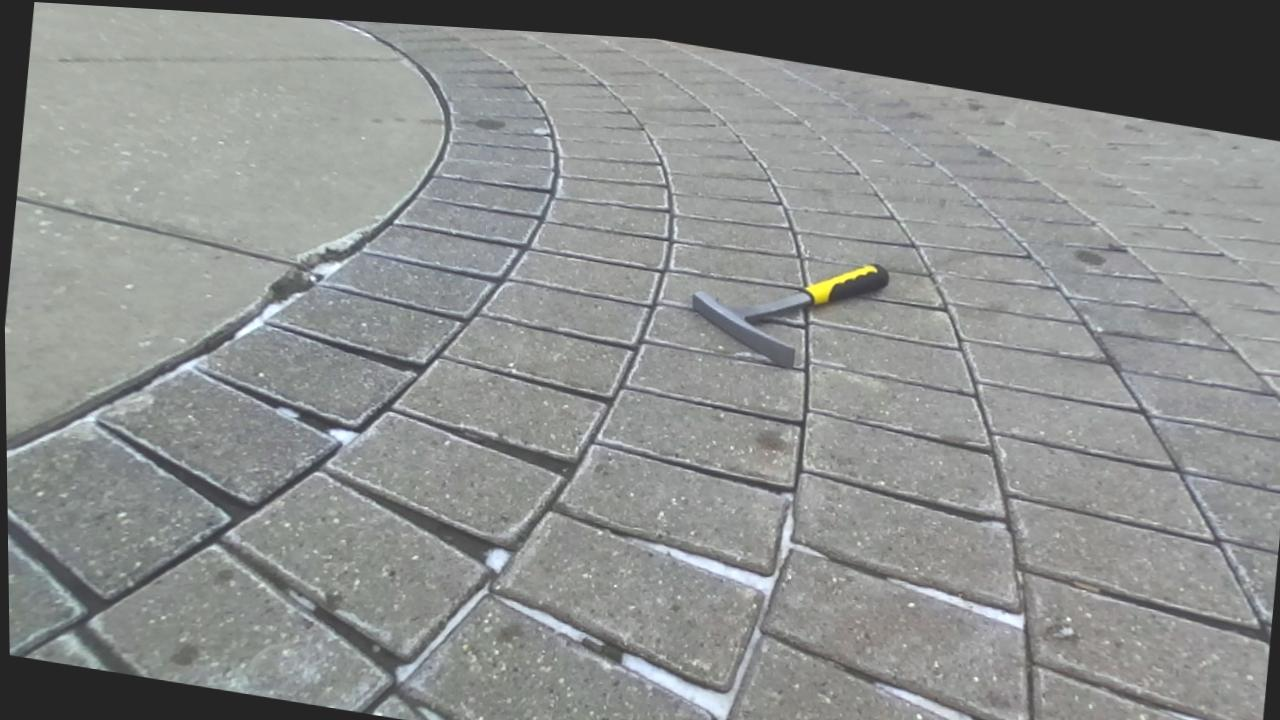pick: (691, 265, 889, 366)
